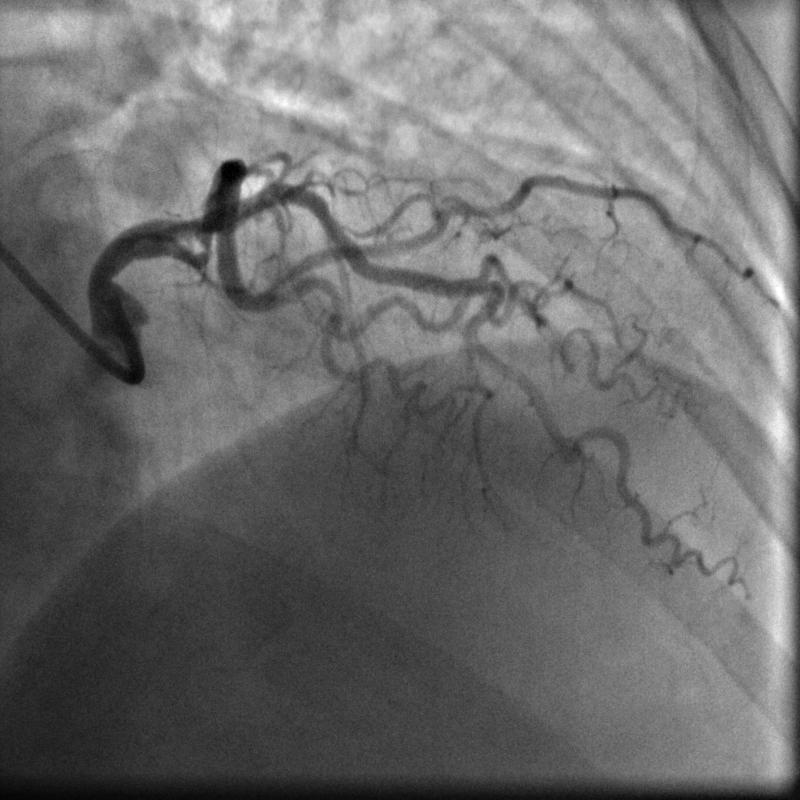Stenosis: (182, 214, 215, 269)
